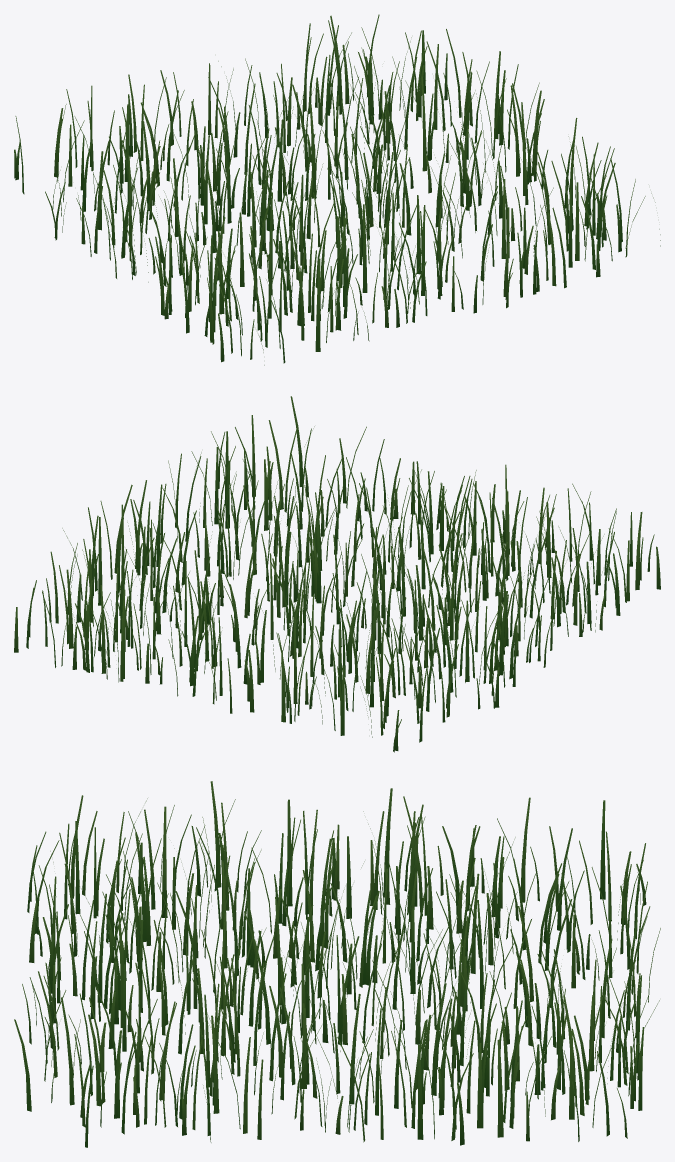
Rendered from Turf_Sedge_v0.glb.
3 views of the same model, one above another, from view 1: azimuth 30°, elevation 25°; view 2: azimuth 150°, elevation 25°; view 3: azimuth 270°, elevation 25° (orthographic). The views are drawn at different scales.
Visible parts, largest first — view 1: Turf_Sedge_v0; view 2: Turf_Sedge_v0; view 3: Turf_Sedge_v0.
Part boxes in pixels (x1,y1,x2,y2): Turf_Sedge_v0: (14,14,660,365); Turf_Sedge_v0: (14,396,660,752); Turf_Sedge_v0: (14,781,660,1147).
Size of the model in its own units: 1.23 by 0.22 by 1.27.
